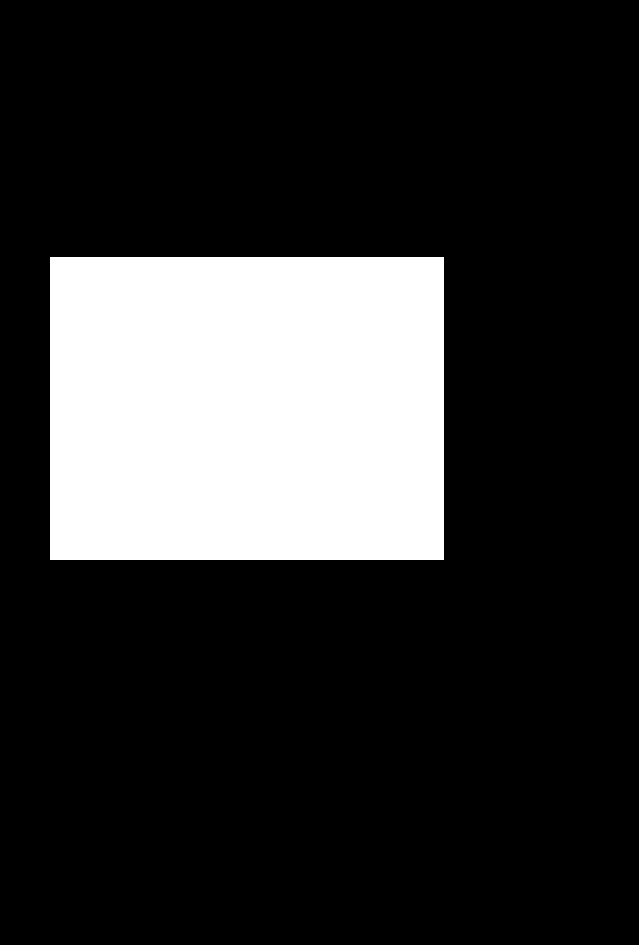table: (50, 257, 443, 559)
